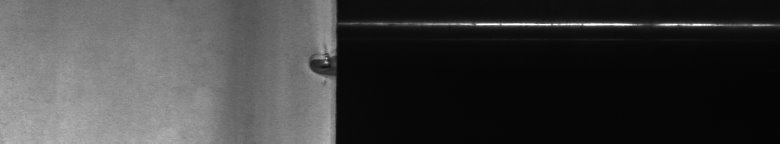hb: (302, 37, 324, 87)
